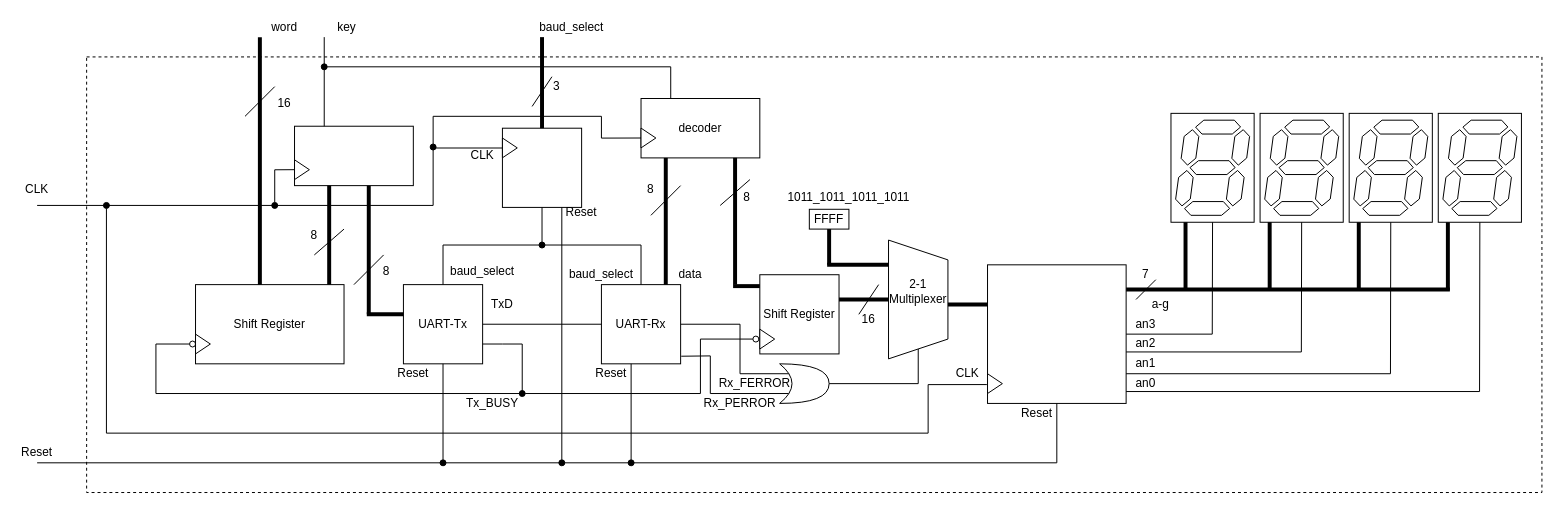
Some shapes in this 1559 by 510 pixel diagram are drawn without their labels. Here are the shapes that lost their labels. From the top down, the box of each, then its label:
(294, 125, 413, 186): encoder
(501, 127, 582, 207): Baud Controller
(987, 264, 1126, 403): Anode Driver
